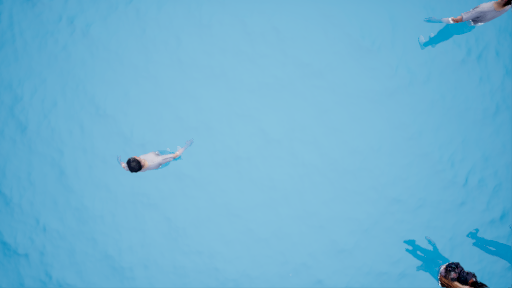person: (408, 1, 510, 55), (400, 237, 491, 288), (114, 137, 197, 176), (466, 217, 512, 269)
